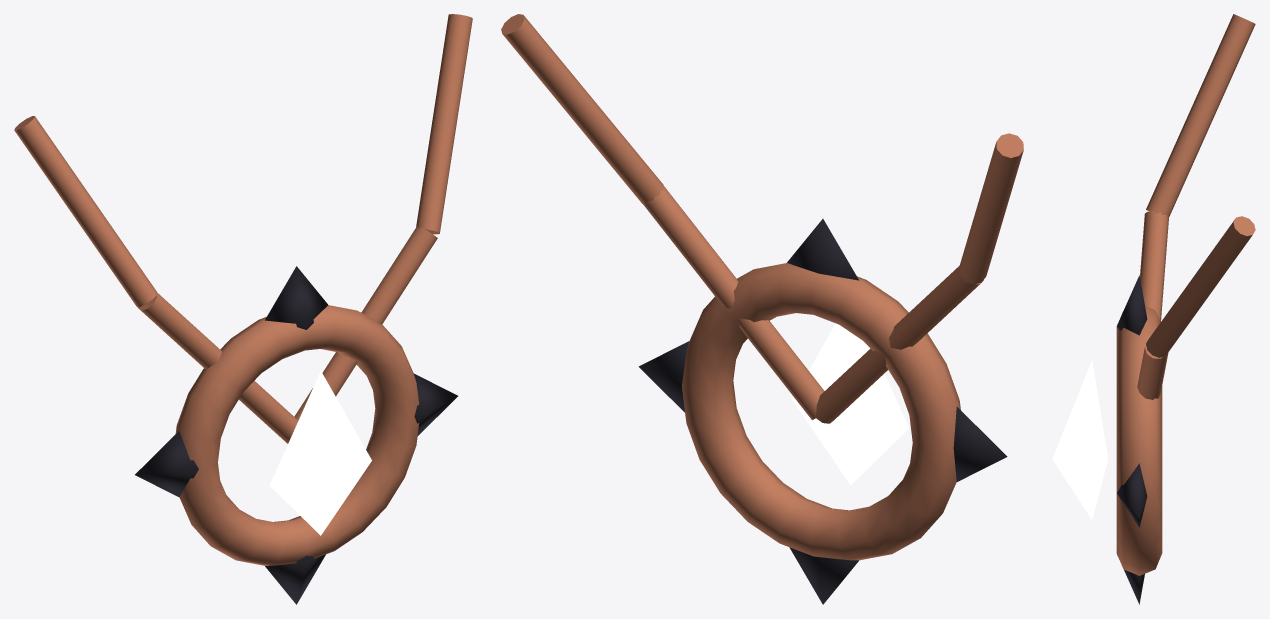
Rendered from boss_obsidian_oath_accessory_4.glb.
3 renders of one model, left to right at view 1: azimuth 30°, elevation 25°; view 2: azimuth 150°, elevation 25°; view 3: azimuth 270°, elevation 25°, orthographic. The views are drawn at different scales.
Visible parts, largest first — view 1: Boss_obsidian_oath_1, Boss_obsidian_oath_2, Boss_obsidian_oath_0; view 2: Boss_obsidian_oath_1, Boss_obsidian_oath_0, Boss_obsidian_oath_2; view 3: Boss_obsidian_oath_1, Boss_obsidian_oath_2, Boss_obsidian_oath_0.
Boxes of the visible parts, bbox=[...] form: Boss_obsidian_oath_1: bbox=[14, 14, 472, 565]; Boss_obsidian_oath_2: bbox=[269, 371, 371, 535]; Boss_obsidian_oath_0: bbox=[135, 266, 457, 604]; Boss_obsidian_oath_1: bbox=[501, 14, 1023, 560]; Boss_obsidian_oath_0: bbox=[638, 219, 1007, 604]; Boss_obsidian_oath_2: bbox=[792, 323, 908, 485]; Boss_obsidian_oath_1: bbox=[1116, 14, 1255, 575]; Boss_obsidian_oath_2: bbox=[1052, 360, 1107, 519]; Boss_obsidian_oath_0: bbox=[1117, 275, 1147, 604].
Size of the model in its own units: 0.2925 by 0.308 by 0.1162.
